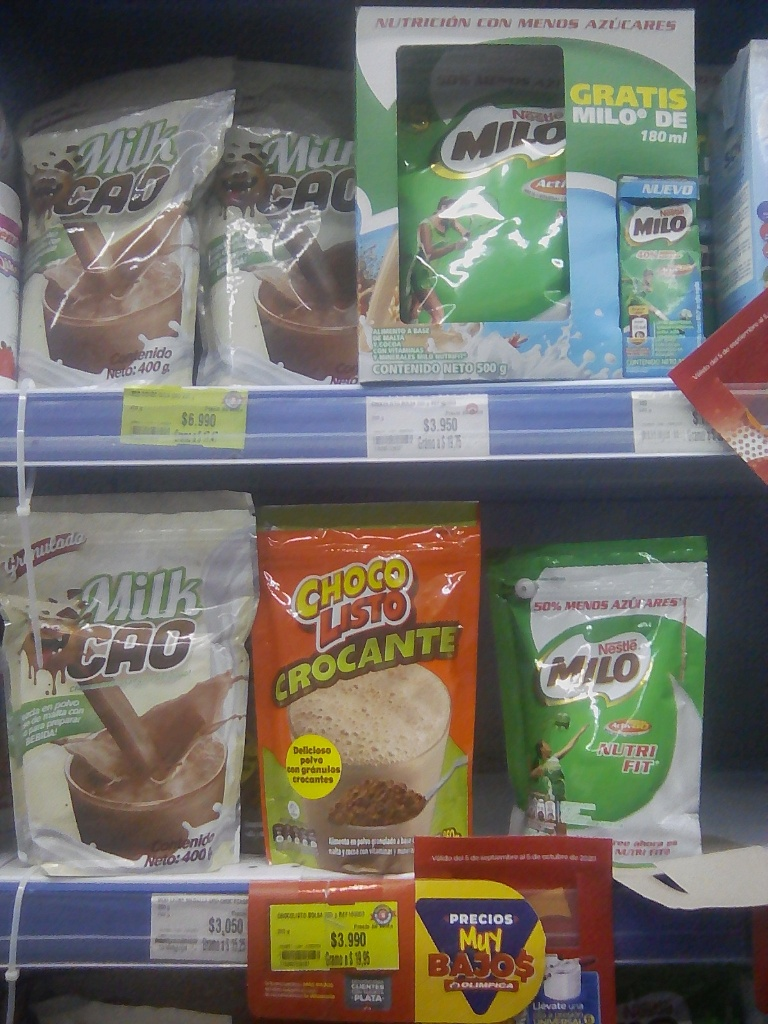COL0170102DYP25000: (250, 508, 483, 866)
COL0170205DYP20000: (479, 544, 725, 871)
COL0170205DYP50000: (396, 45, 573, 333)
